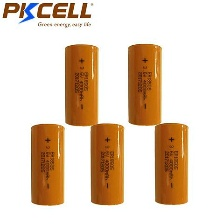battery: (151, 119, 192, 209), (61, 41, 102, 129), (28, 121, 67, 208), (123, 40, 162, 125), (87, 121, 125, 206)
